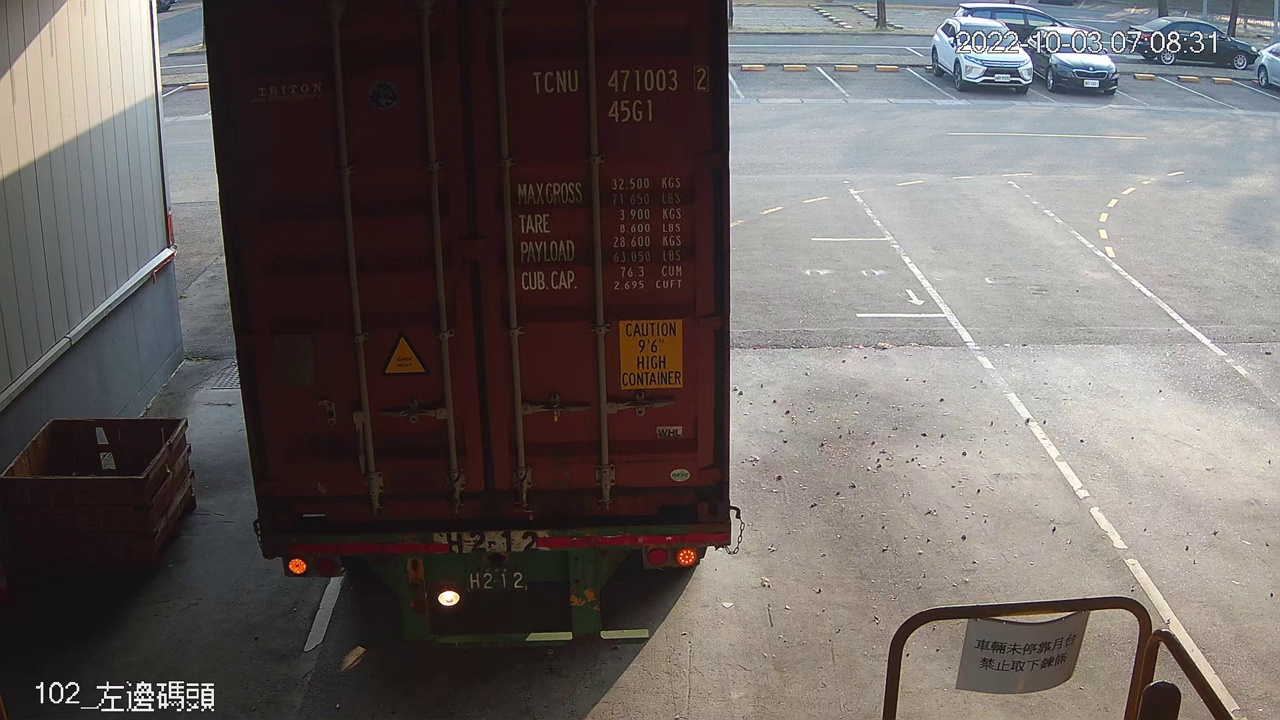container: (526, 60, 714, 131)
